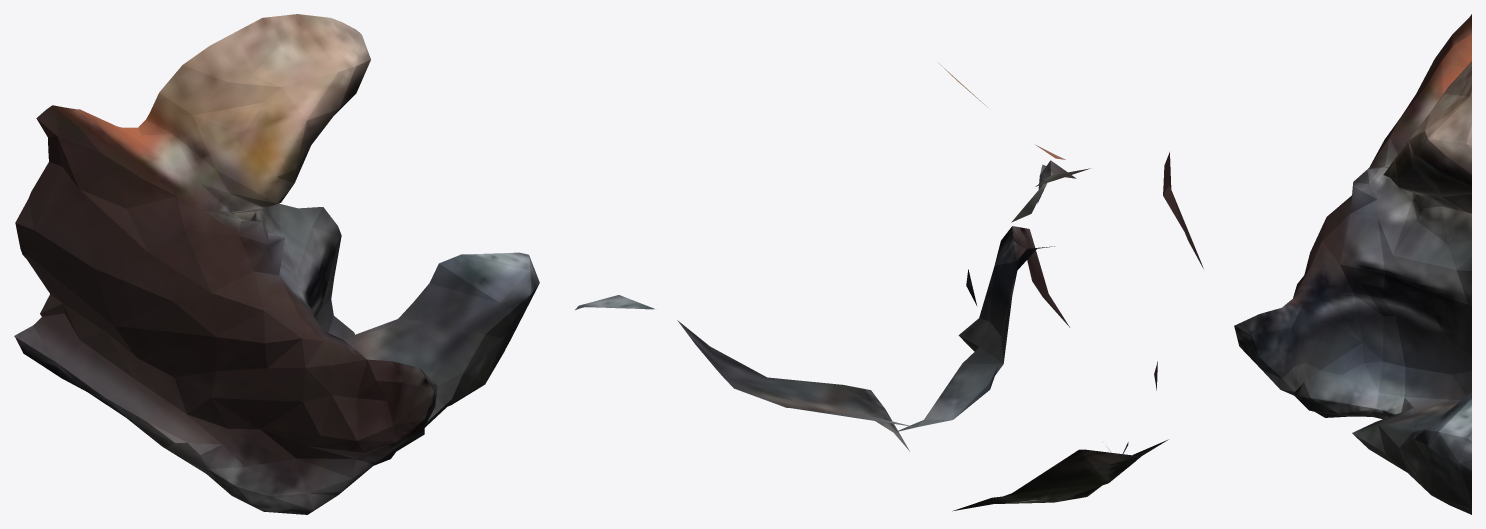
3 views of the same model, side by side, from view 1: azimuth 30°, elevation 25°; view 2: azimuth 150°, elevation 25°; view 3: azimuth 270°, elevation 25° (orthographic). The views are drawn at different scales.
Size of the model in its own units: 0.38 by 0.2996 by 0.1758.
1 material, 1 textured.
